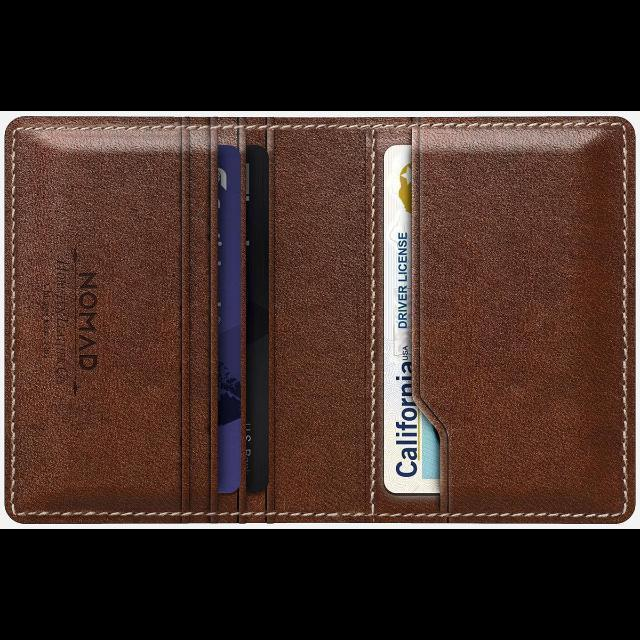wallet: (5, 114, 635, 522)
